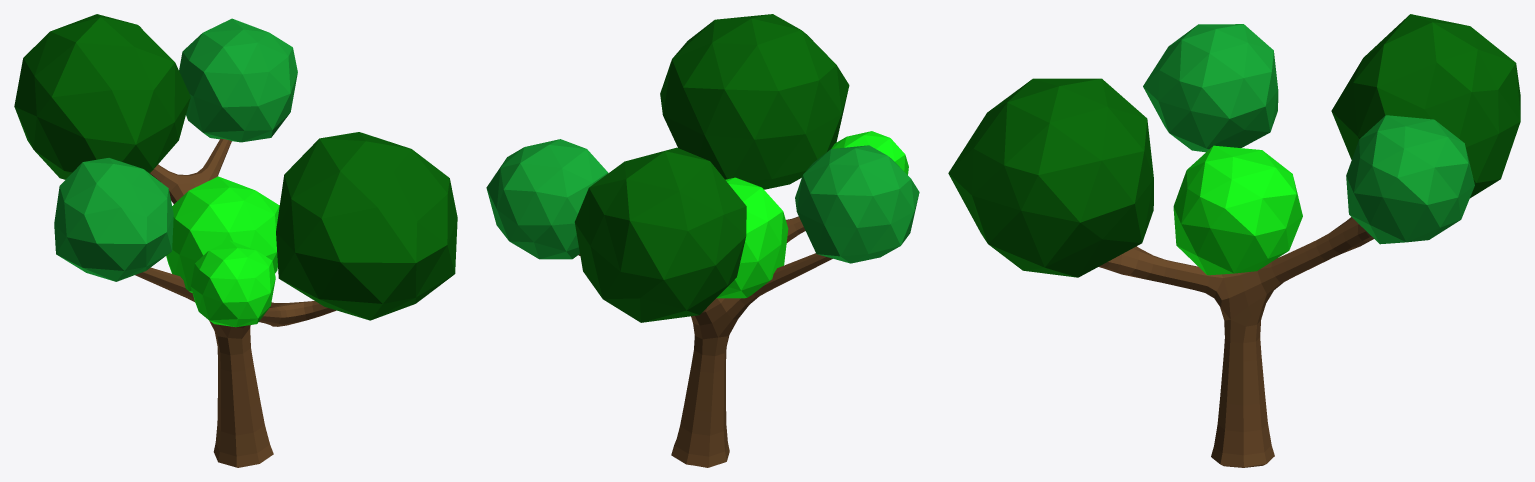
File: Park1_T3.glb
3 renders of one model, left to right at view 1: azimuth 30°, elevation 25°; view 2: azimuth 150°, elevation 25°; view 3: azimuth 270°, elevation 25°, orthographic. The views are drawn at different scales.
Parts seen in each view (by area): view 1: Park1-T3; view 2: Park1-T3; view 3: Park1-T3.
Boxes of the visible parts, x1,y1,x2,y2 form: Park1-T3: [14, 14, 457, 467]; Park1-T3: [486, 14, 919, 467]; Park1-T3: [948, 14, 1520, 467].
Size of the model in its own units: 27.77 by 31.67 by 39.93.
